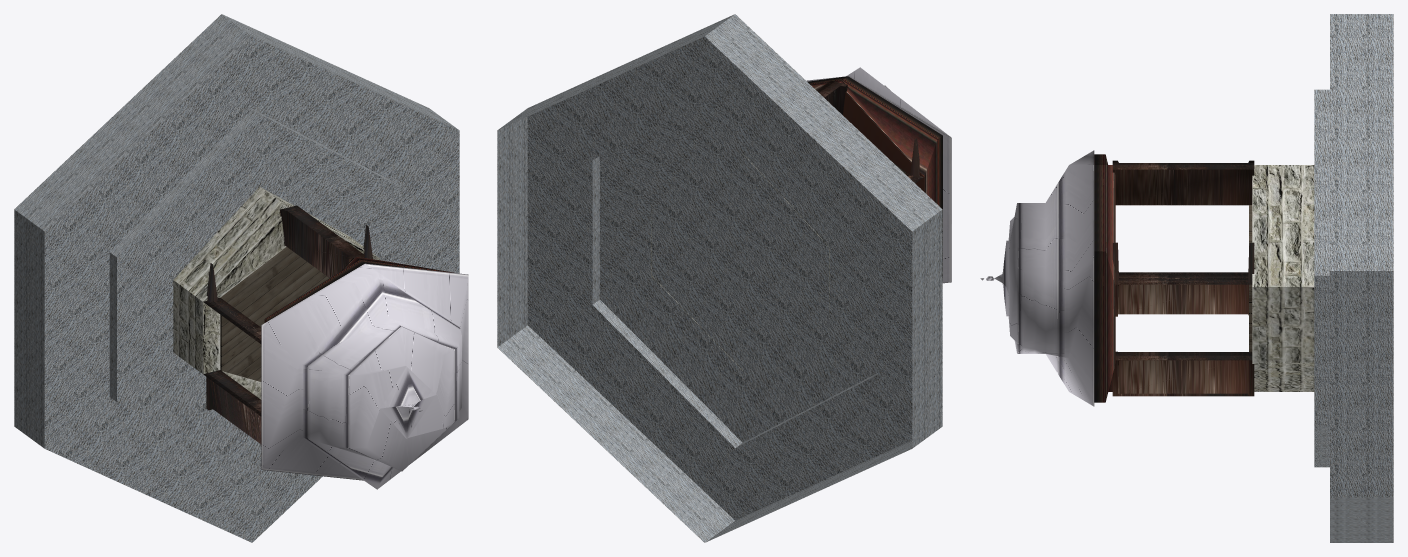
Rendered from Rataskaev-origo.obj.
3 views of the same model, side by side, from view 1: azimuth 30°, elevation 25°; view 2: azimuth 150°, elevation 25°; view 3: azimuth 270°, elevation 25° (orthographic). The views are drawn at different scales.
Parts seen in each view (by area): view 1: rataskaev; view 2: rataskaev; view 3: rataskaev.
Part boxes in pixels (<box>): rataskaev: <box>14,14,468,542</box>; rataskaev: <box>497,14,951,542</box>; rataskaev: <box>980,14,1393,542</box>.
Bounding box in the file's own units: 6 × 7 × 4.96.
Materials: 6 (6 with a texture image).
